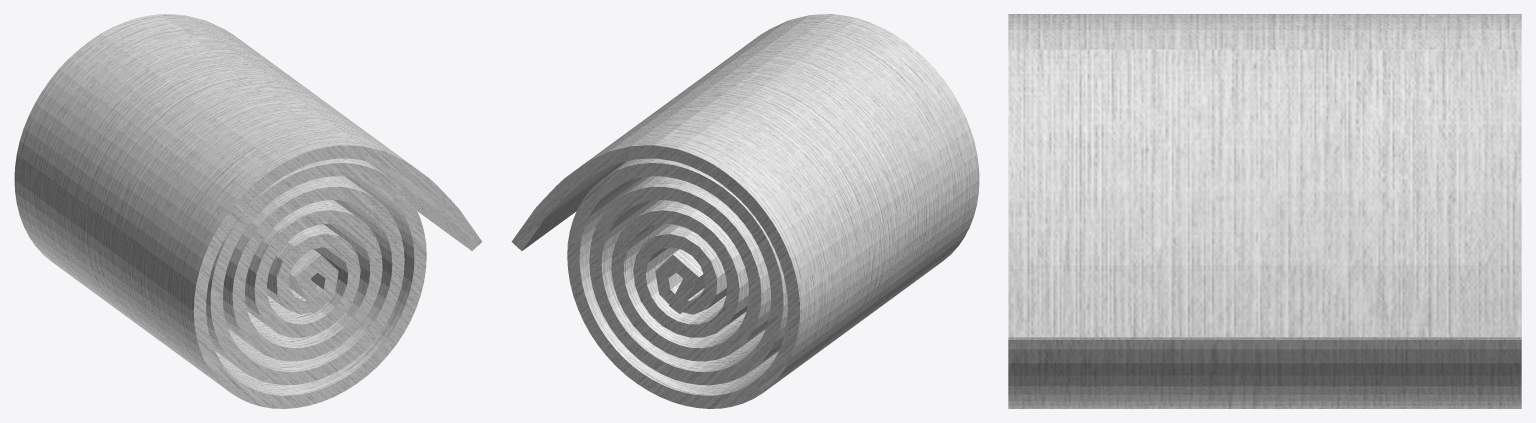
The model's file is PerbanGulung_Azhari_230034.fbx.
3 renders of one model, left to right at view 1: azimuth 30°, elevation 25°; view 2: azimuth 150°, elevation 25°; view 3: azimuth 270°, elevation 25°, orthographic. The views are drawn at different scales.
Parts seen in each view (by area): view 1: Plane; view 2: Plane; view 3: Plane.
Part boxes in pixels (x1,y1,x2,y2): Plane: [14, 14, 482, 408]; Plane: [511, 14, 979, 408]; Plane: [1008, 14, 1521, 408].
Bounding box in the file's own units: 702 × 592 × 755.
